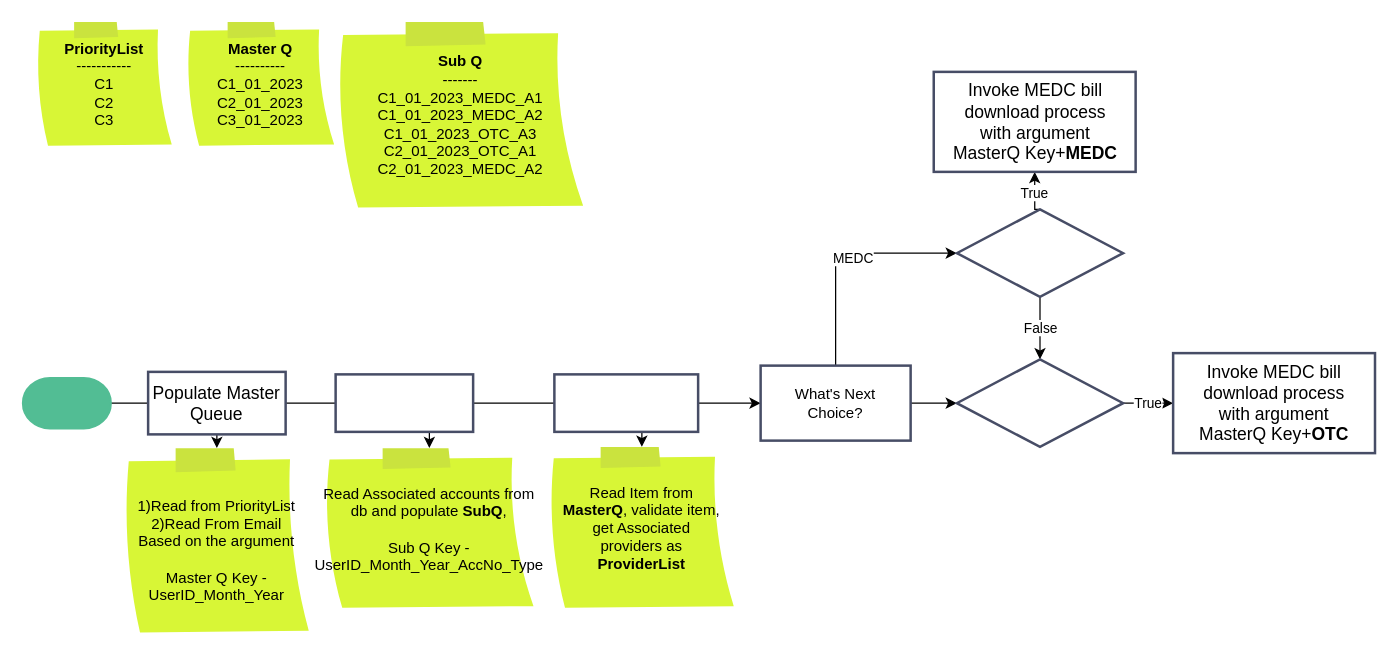
The diagram is 1398 pixels wide and 655 high, and some of its shapes have lost their labels. Here are the shapes that lost their labels. From the top down, the box of each, then its label:
(955, 208, 1124, 298): is MEDC in ProviderList?
(21, 376, 111, 429): Start
(334, 372, 474, 432): Populate Sub Queue
(552, 372, 699, 432): Validate Queue Item
(955, 358, 1124, 448): is OTC in ProviderList?
